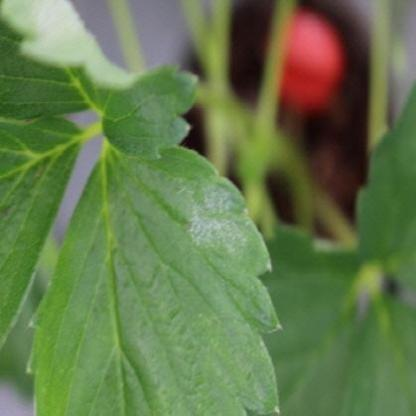Strawberry_Powdery_Mildew_Leaf: (25, 138, 284, 416), (0, 0, 201, 162)
